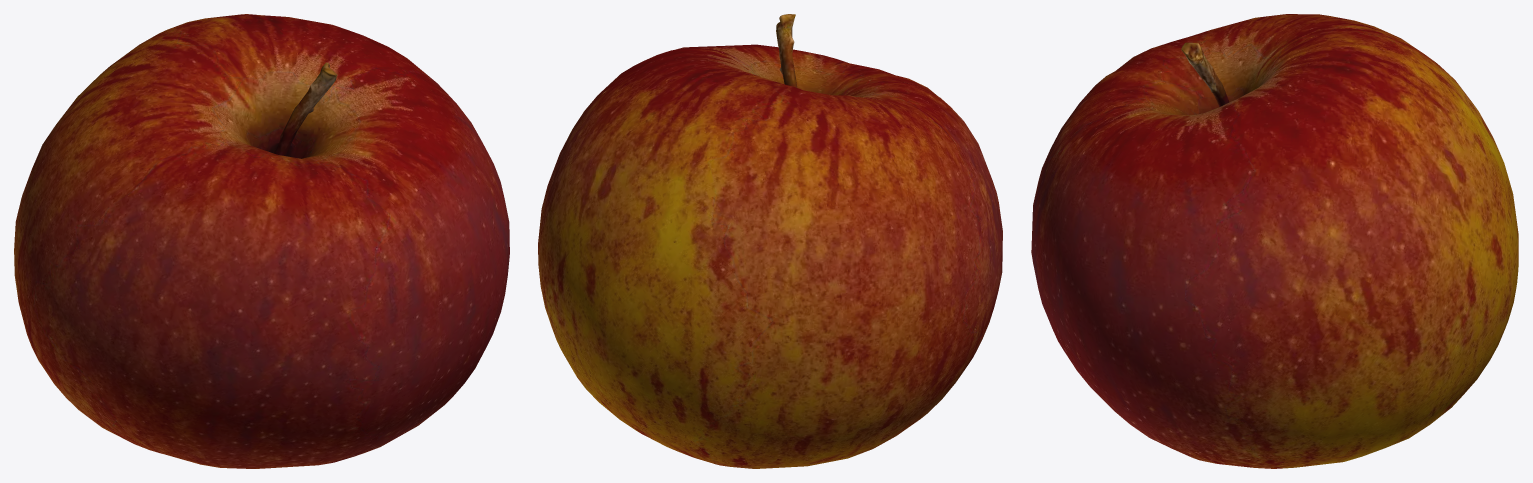
The model's file is food_apple_01.glb.
3 views of the same model, side by side, from view 1: azimuth 30°, elevation 25°; view 2: azimuth 150°, elevation 25°; view 3: azimuth 270°, elevation 25° (orthographic). The views are drawn at different scales.
Parts seen in each view (by area): view 1: food_apple_01; view 2: food_apple_01; view 3: food_apple_01.
Boxes of the visible parts, <box> form: food_apple_01: <box>14,14,509,468</box>; food_apple_01: <box>538,14,1002,468</box>; food_apple_01: <box>1031,14,1518,468</box>.
Size of the model in its own units: 0.0976 by 0.0854 by 0.0958.
Materials: 1 (1 with a texture image).
